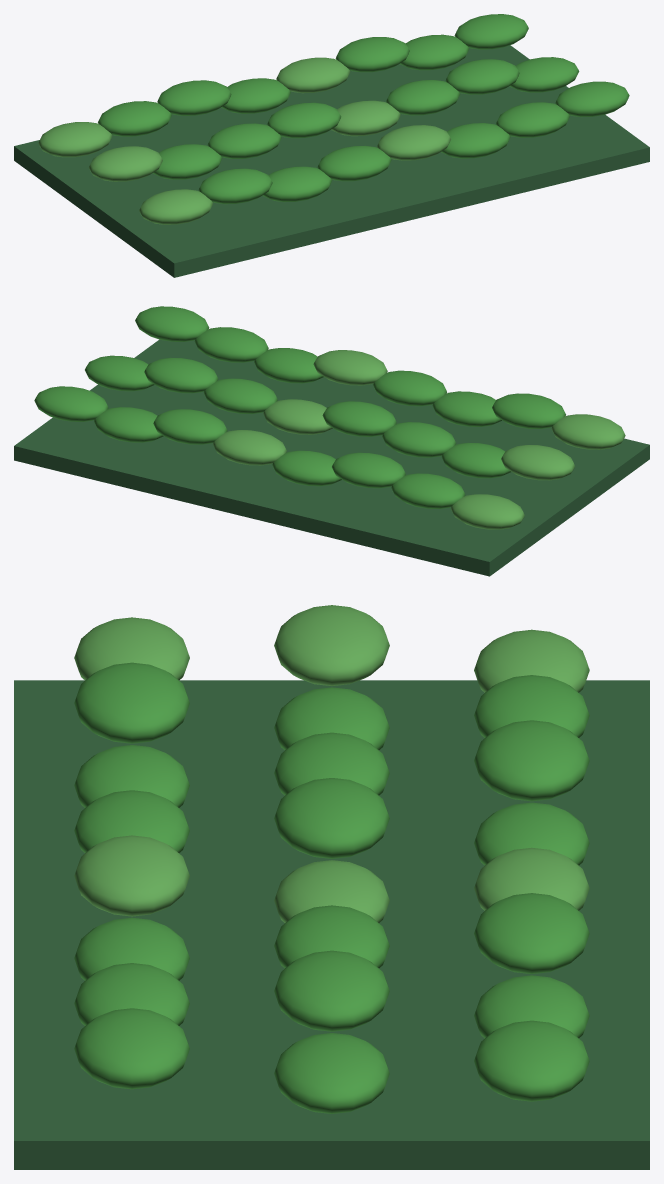
The picture shows the model from 3 angles, top to bottom: view 1: azimuth 30°, elevation 25°; view 2: azimuth 150°, elevation 25°; view 3: azimuth 270°, elevation 25°; orthographic projection. The views are drawn at different scales.
Visible parts, largest first — view 1: groundcover-patch; view 2: groundcover-patch; view 3: groundcover-patch.
Part boxes in pixels (x1,y1,x2,y2): groundcover-patch: [14, 14, 649, 277]; groundcover-patch: [14, 306, 649, 576]; groundcover-patch: [14, 605, 649, 1169].
Size of the model in its own units: 1.22 by 0.143 by 0.7.
